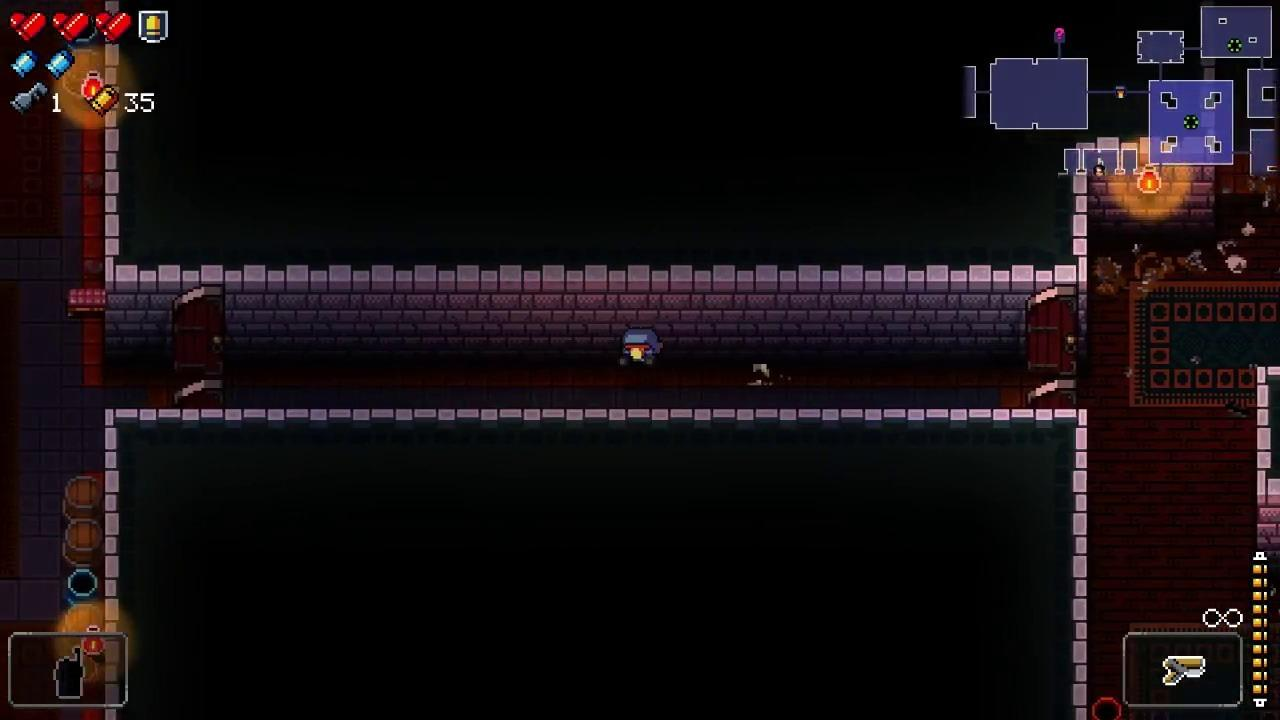player: (621, 327, 664, 367)
unlocked_door: (1025, 283, 1077, 409), (172, 284, 224, 408)
